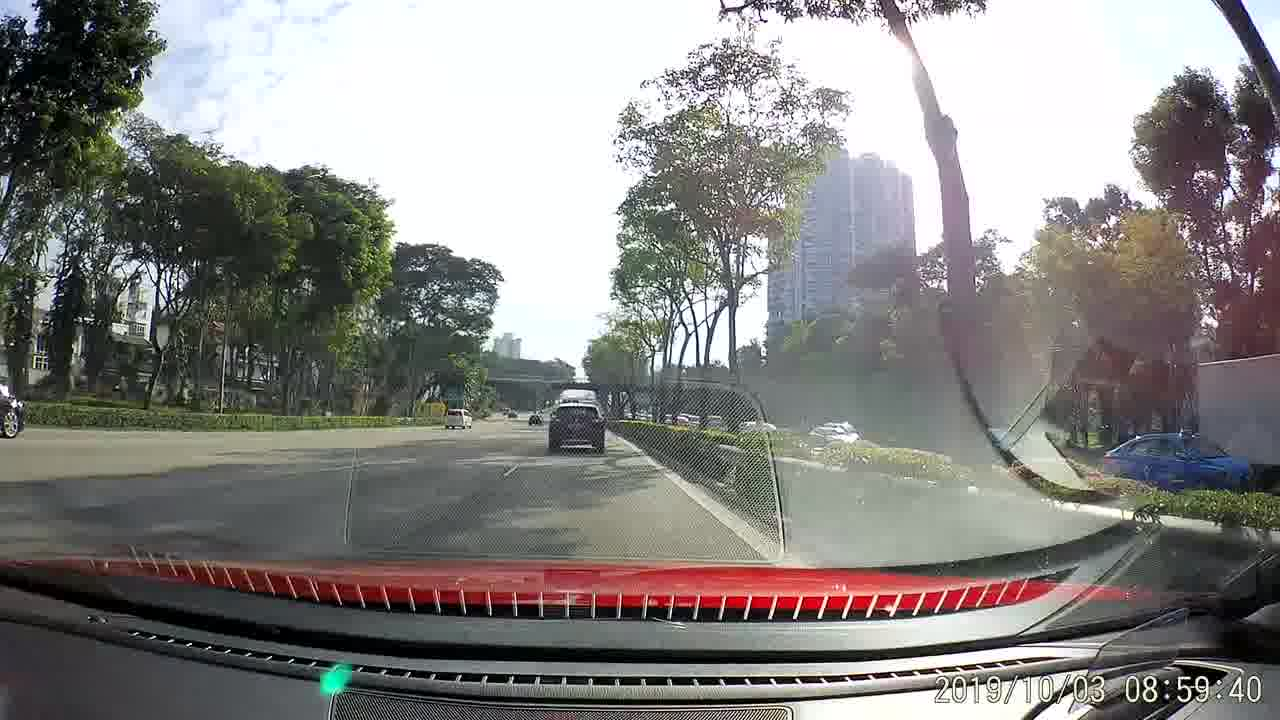car: (1102, 422, 1255, 493), (550, 401, 608, 457), (803, 417, 856, 453), (737, 416, 777, 437), (441, 406, 475, 430), (527, 414, 544, 430)
